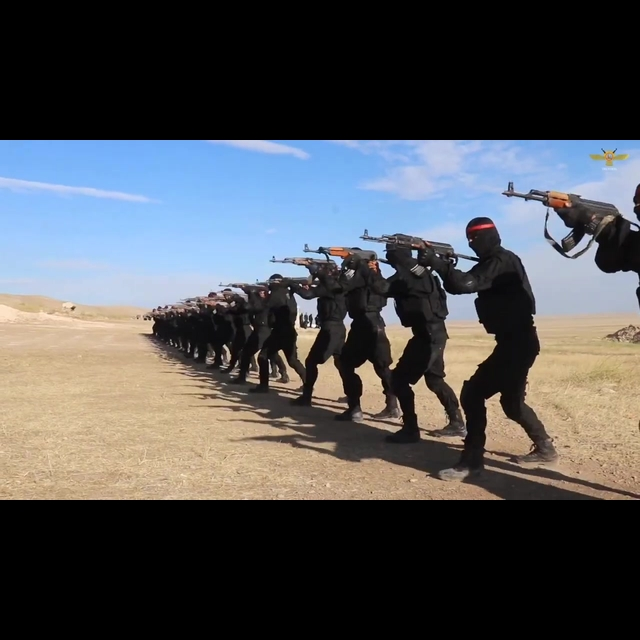AK47: (491, 177, 620, 259), (358, 222, 453, 280), (302, 239, 378, 275)
